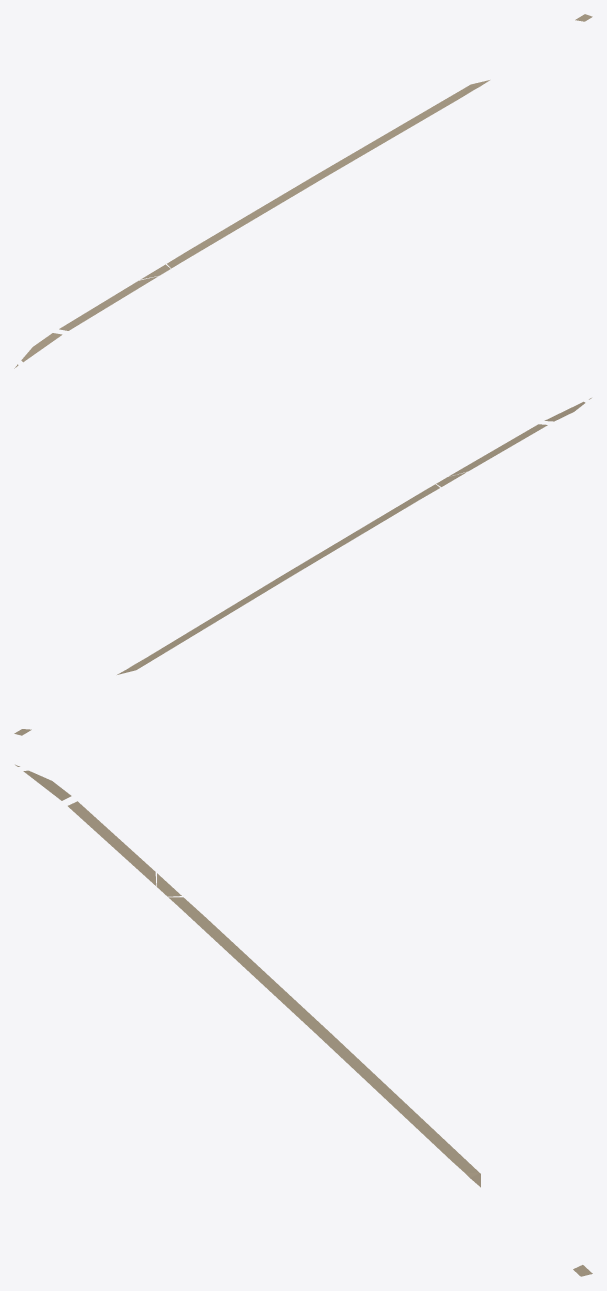
File: farm_23_21_track.glb
3 views of the same model, one above another, from view 1: azimuth 30°, elevation 25°; view 2: azimuth 210°, elevation 25°; view 3: azimuth 270°, elevation 25° (orthographic). The views are drawn at different scales.
Visible parts, largest first — view 1: geometry_0; view 2: geometry_0; view 3: geometry_0.
Part boxes in pixels (left/top/right/bottom): geometry_0: left=14, top=14, right=592, bottom=368; geometry_0: left=14, top=398, right=591, bottom=735; geometry_0: left=15, top=764, right=592, bottom=1276.
Size of the model in its own units: 305 by 3.06 by 143.
